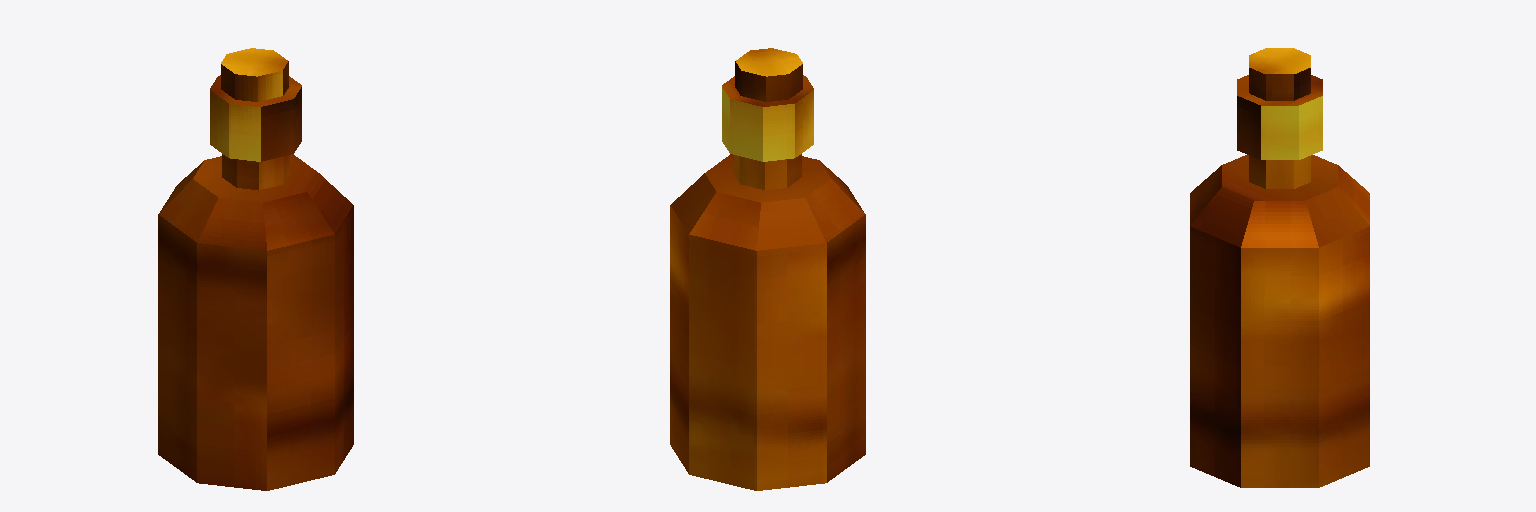
3 views of the same model, side by side, from view 1: azimuth 30°, elevation 25°; view 2: azimuth 150°, elevation 25°; view 3: azimuth 270°, elevation 25° (orthographic).
Parts seen in each view (by area): view 1: bottle; view 2: bottle; view 3: bottle.
Part boxes in pixels (x1,y1,x2,y2): bottle: (158,48,353,490); bottle: (670,48,865,490); bottle: (1190,48,1369,487).
Size of the model in its own units: 134 by 317 by 134.
Materials: 3 (1 with a texture image).